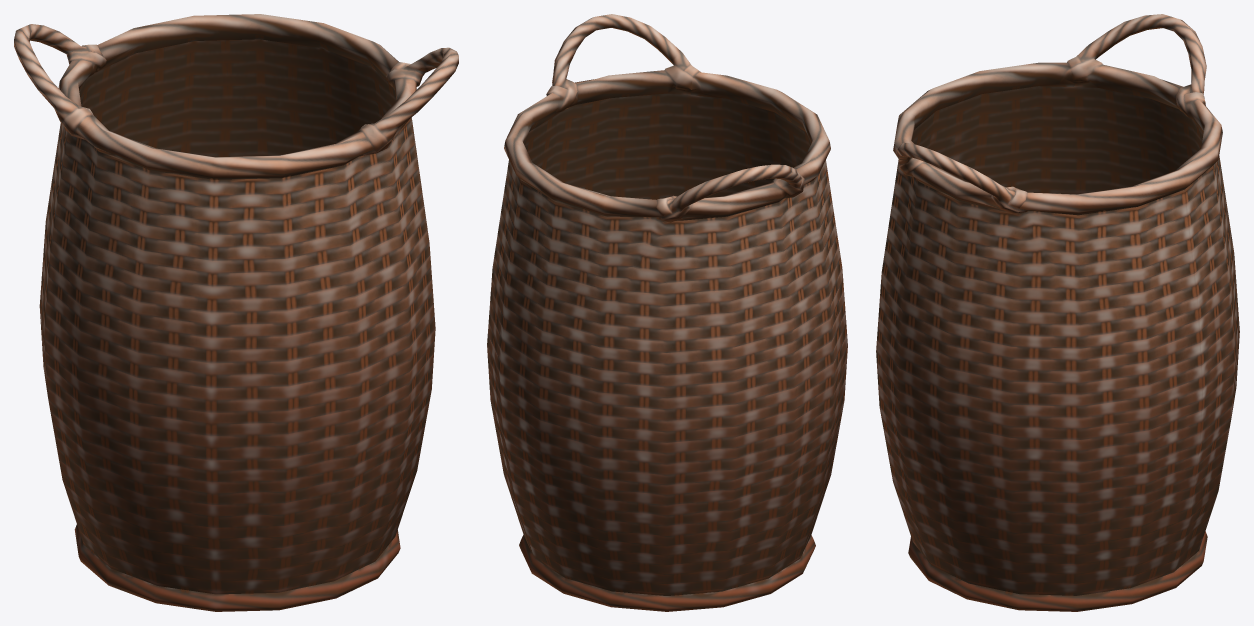
File: Basket_low.fbx
The picture shows the model from 3 angles, left to right: view 1: azimuth 30°, elevation 25°; view 2: azimuth 150°, elevation 25°; view 3: azimuth 270°, elevation 25°; orthographic projection. The views are drawn at different scales.
Parts seen in each view (by area): view 1: Basket_low; view 2: Basket_low; view 3: Basket_low.
Boxes of the visible parts, <box> form: Basket_low: <box>14,14,458,611</box>; Basket_low: <box>487,14,847,611</box>; Basket_low: <box>876,14,1239,611</box>.
Size of the model in its own units: 81.54 by 115 by 81.35.
